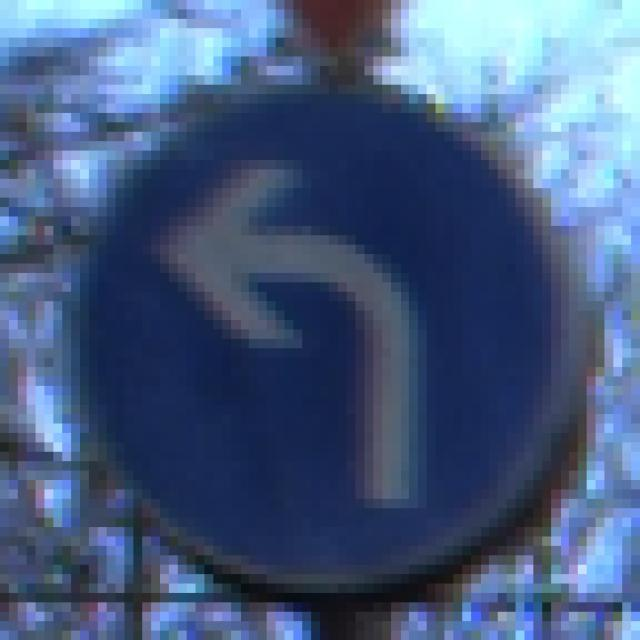compulsary turn left ahead: (78, 83, 584, 599)
